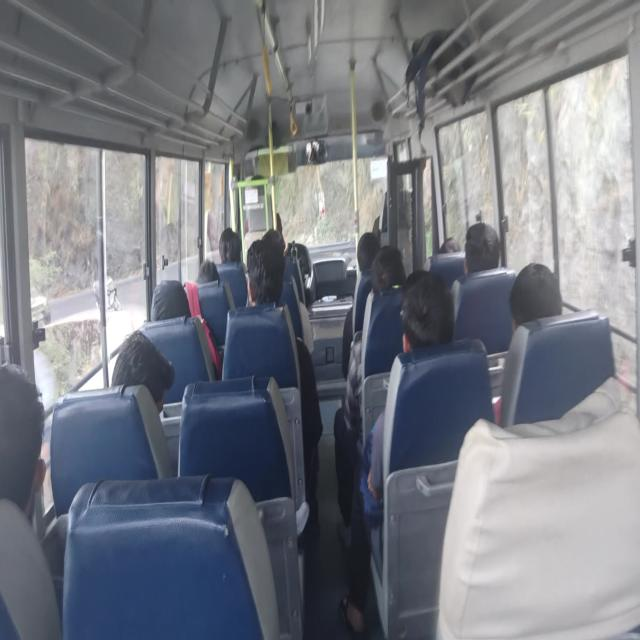person: (338, 270, 455, 634), (244, 229, 323, 526), (334, 244, 406, 526), (0, 361, 63, 638), (492, 261, 563, 424), (0, 361, 47, 519), (341, 231, 380, 379), (110, 330, 175, 414), (451, 221, 500, 321), (508, 262, 562, 332), (464, 221, 499, 273), (370, 244, 406, 294), (218, 227, 241, 263), (197, 259, 220, 283)
